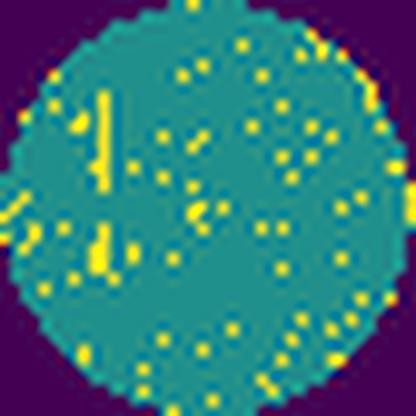Scratch: (84, 88, 116, 196)
